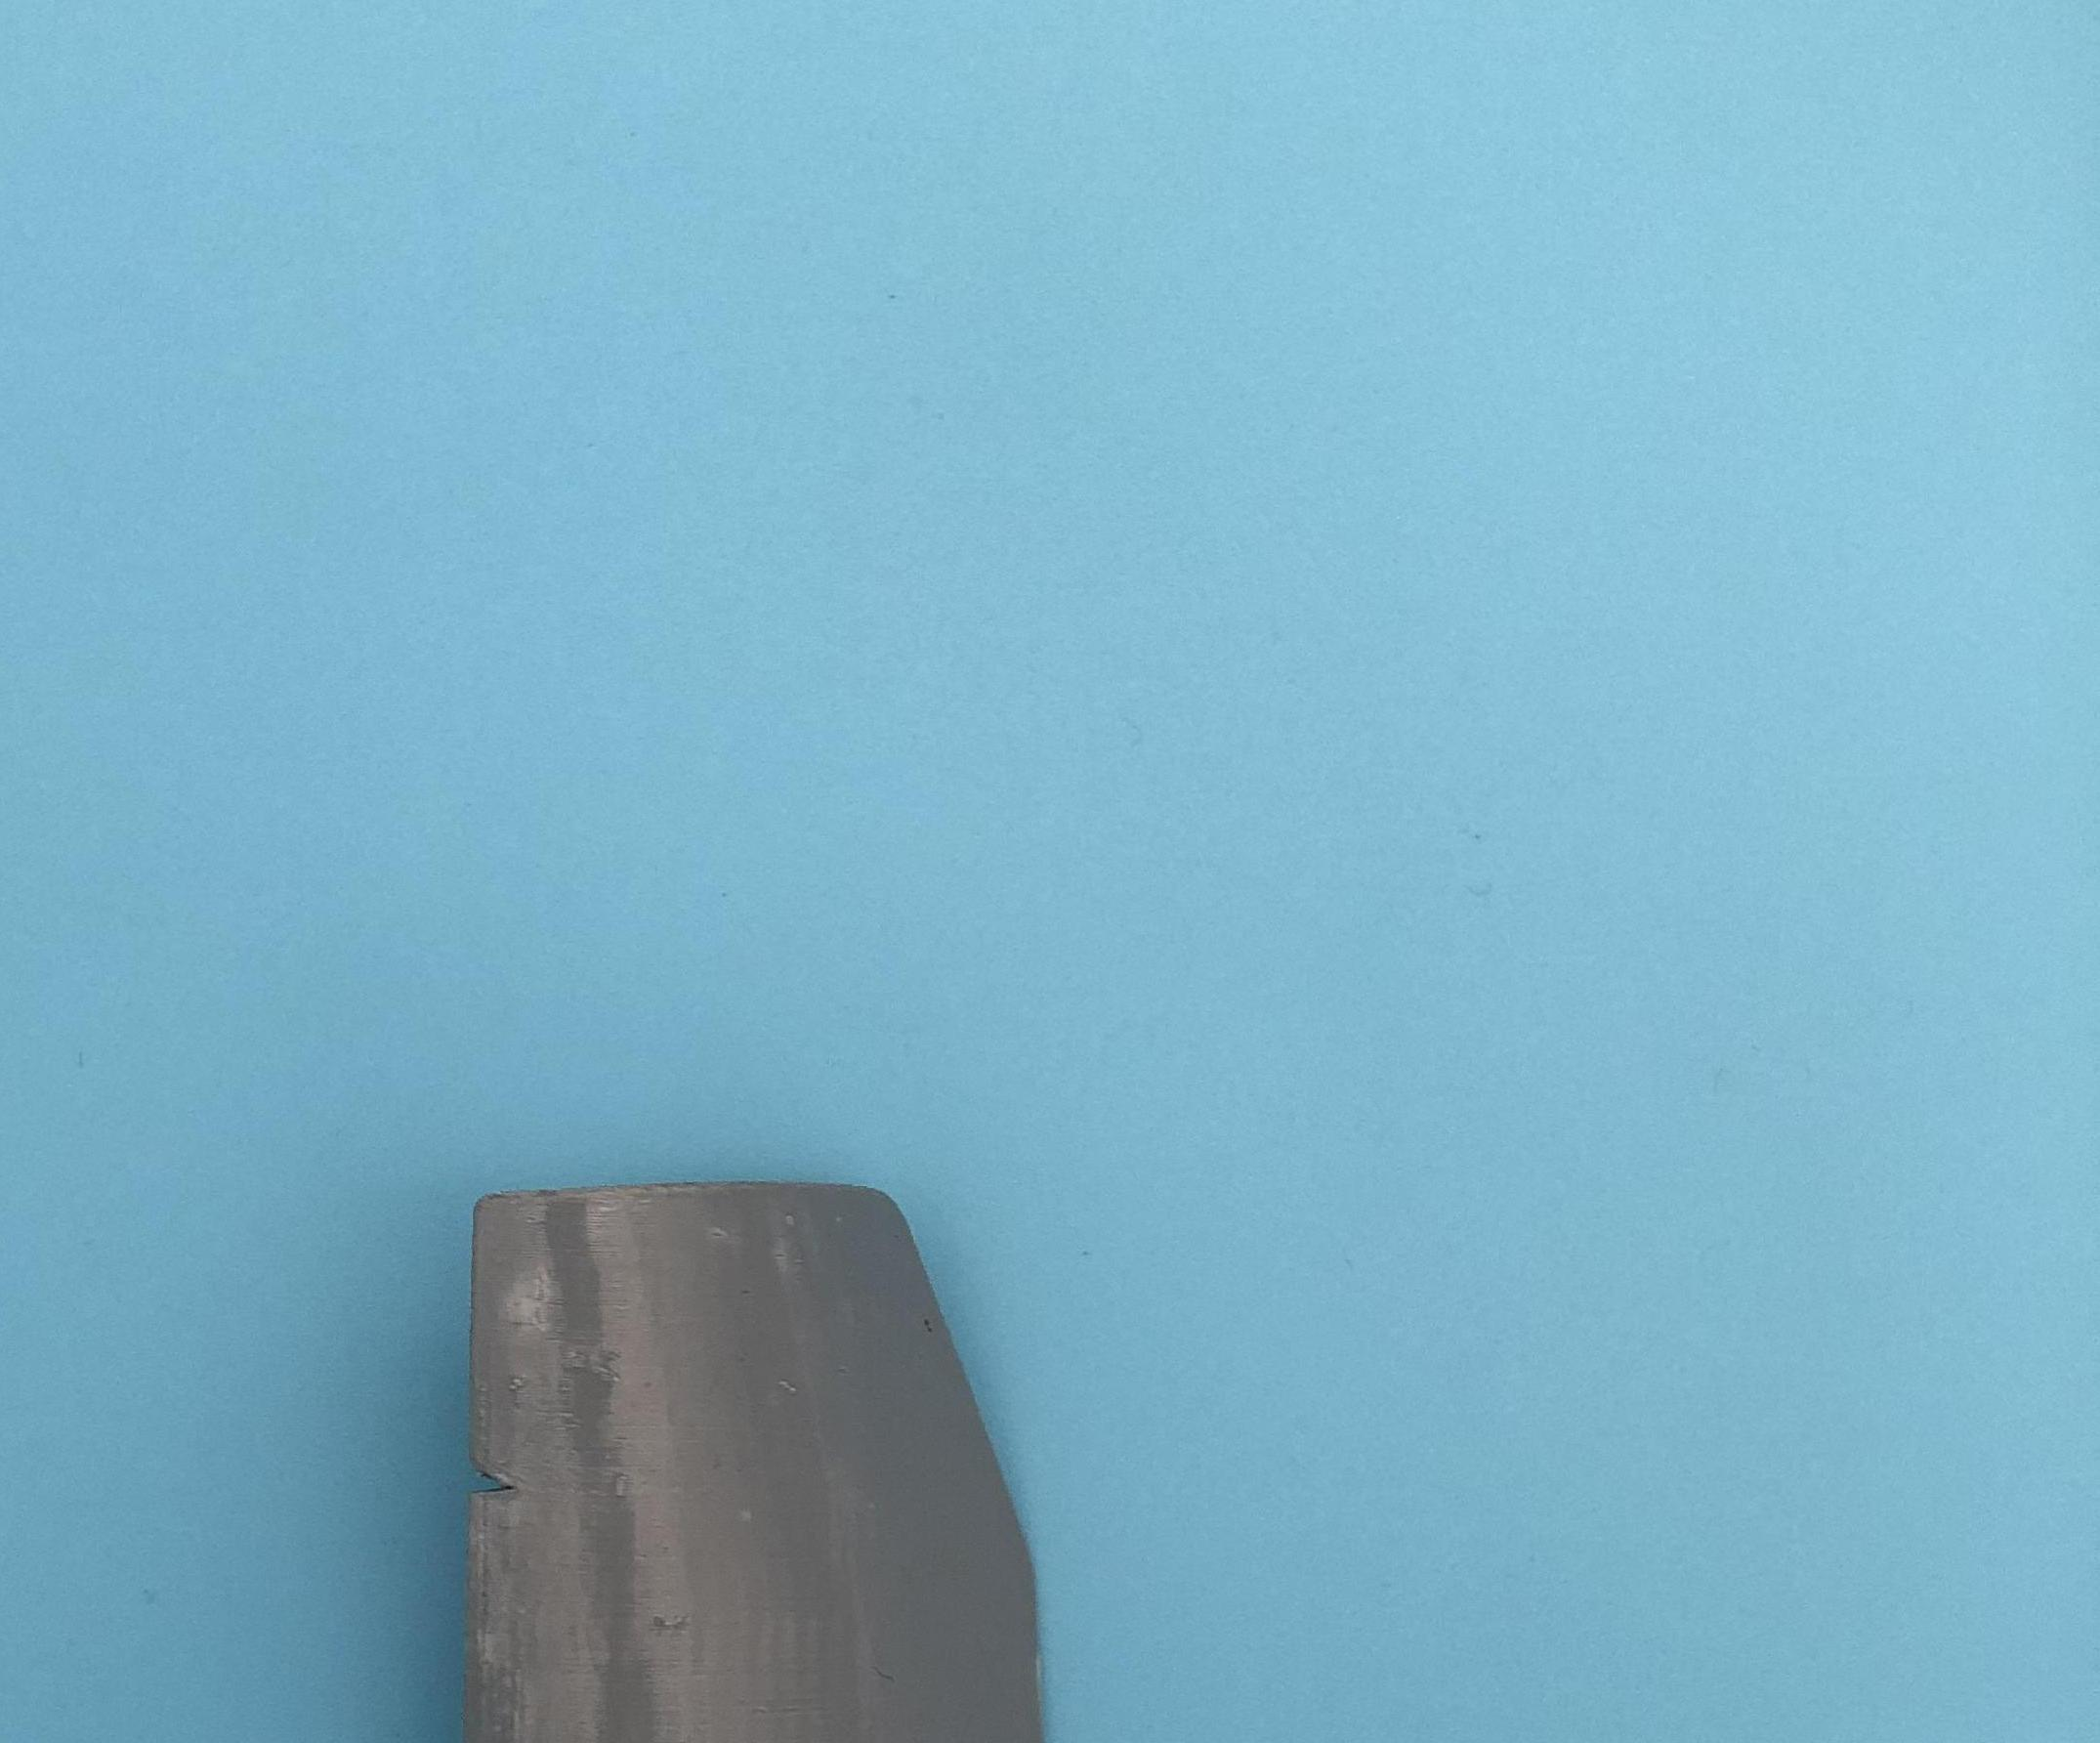groove: (467, 1438, 527, 1521)
